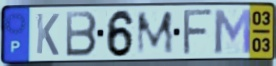6: (104, 8, 137, 59)
B: (65, 10, 99, 59)
F: (181, 7, 216, 57)
K: (35, 12, 61, 58)
M: (135, 9, 176, 57), (212, 7, 253, 55)
